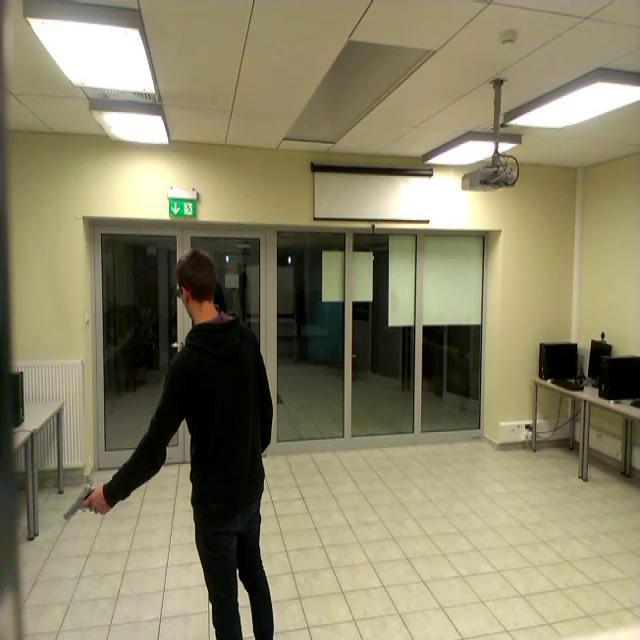weapon: (60, 486, 106, 525)
